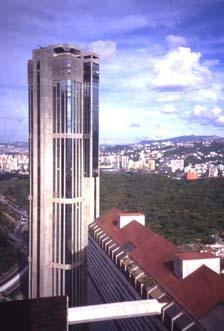building: (26, 42, 101, 308), (86, 206, 224, 331)
